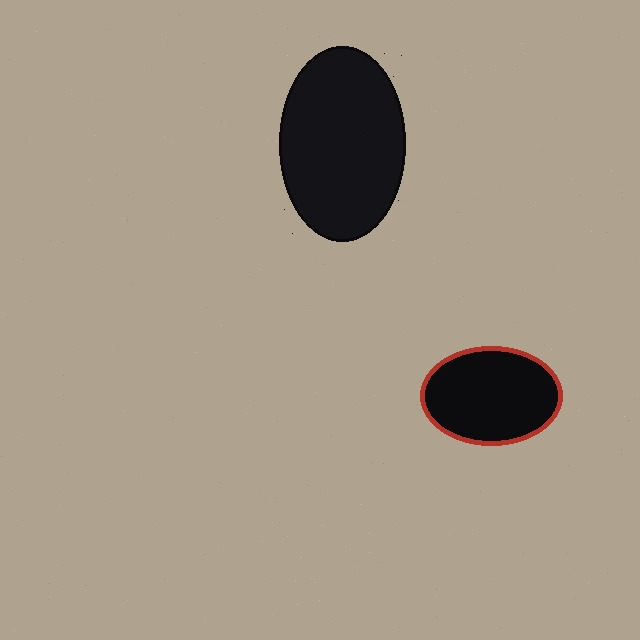open_manhole: (420, 346, 562, 445)
pothole: (279, 46, 405, 241)
